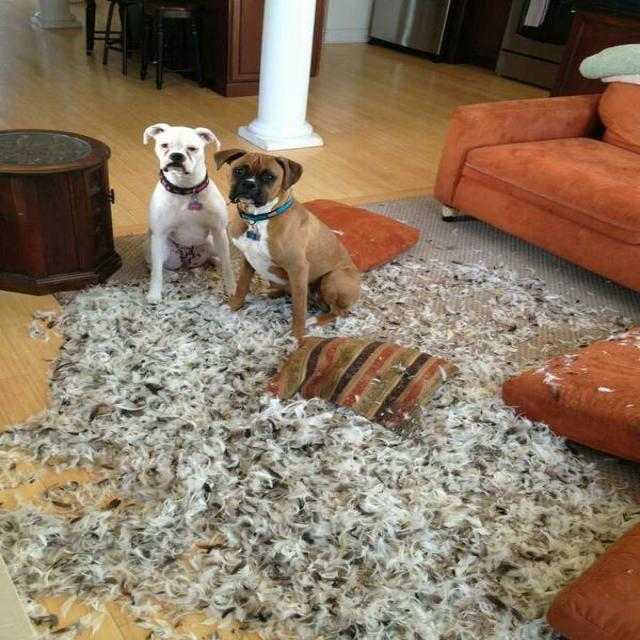dog: (124, 102, 337, 242)
